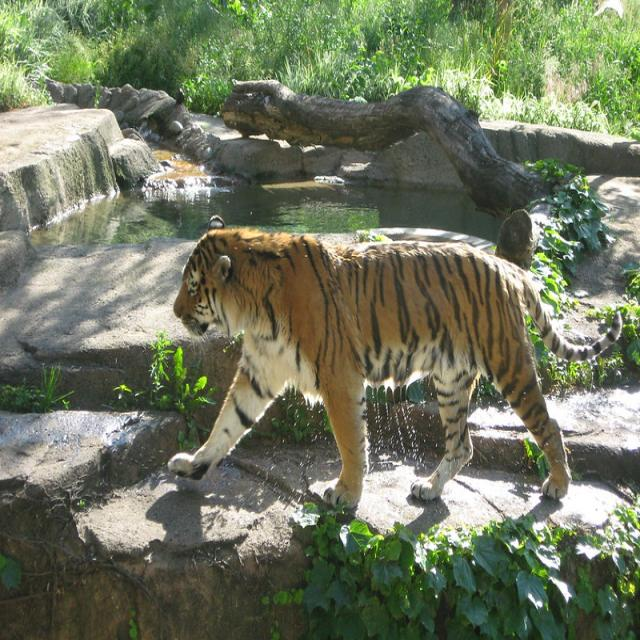Tiger: (168, 215, 606, 511)
